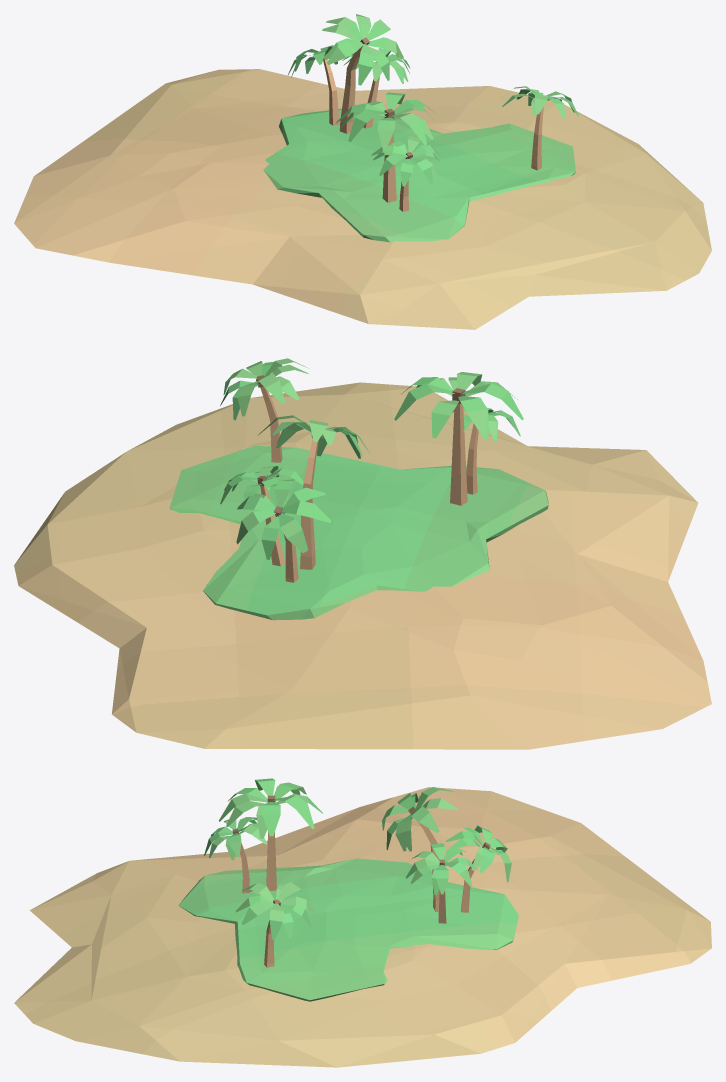
File: beach.obj
3 renders of one model, top to bottom at view 1: azimuth 30°, elevation 25°; view 2: azimuth 150°, elevation 25°; view 3: azimuth 270°, elevation 25°, orthographic. The views are drawn at different scales.
Visible parts, largest first — view 1: Cube.003_Cube.002; view 2: Cube.003_Cube.002; view 3: Cube.003_Cube.002.
Part boxes in pixels (bbox=[...]): Cube.003_Cube.002: bbox=[14, 14, 711, 329]; Cube.003_Cube.002: bbox=[14, 358, 711, 749]; Cube.003_Cube.002: bbox=[14, 778, 711, 1067].
Bounding box in the file's own units: 47.54 × 12.34 × 49.93.
Materials: 1 (1 with a texture image).
